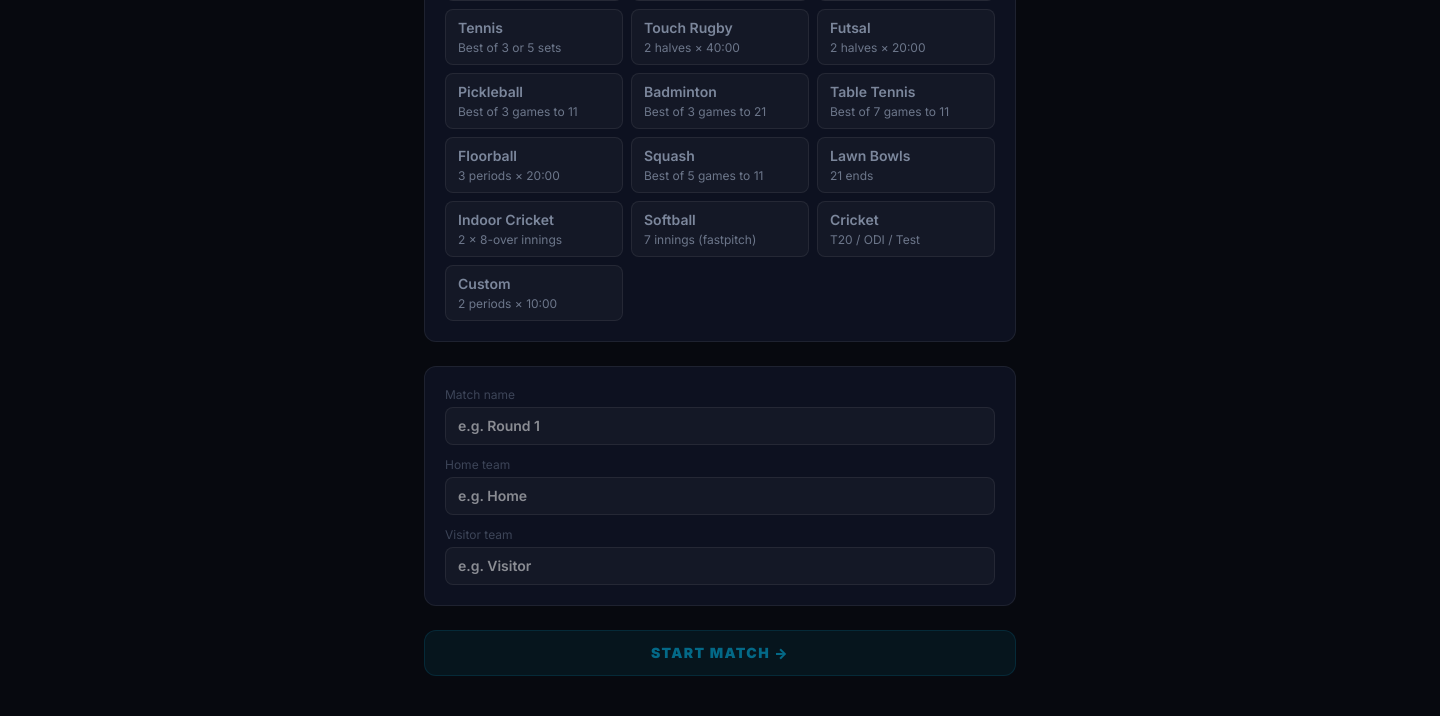
Test: SetupPage › shows an upgrade-required message on a 402 response
(page scrolled)
Type "Round 1" into the field with test id "setup-match-name".
click(720, 426); type("Round 1")  # box [445, 407, 995, 445]
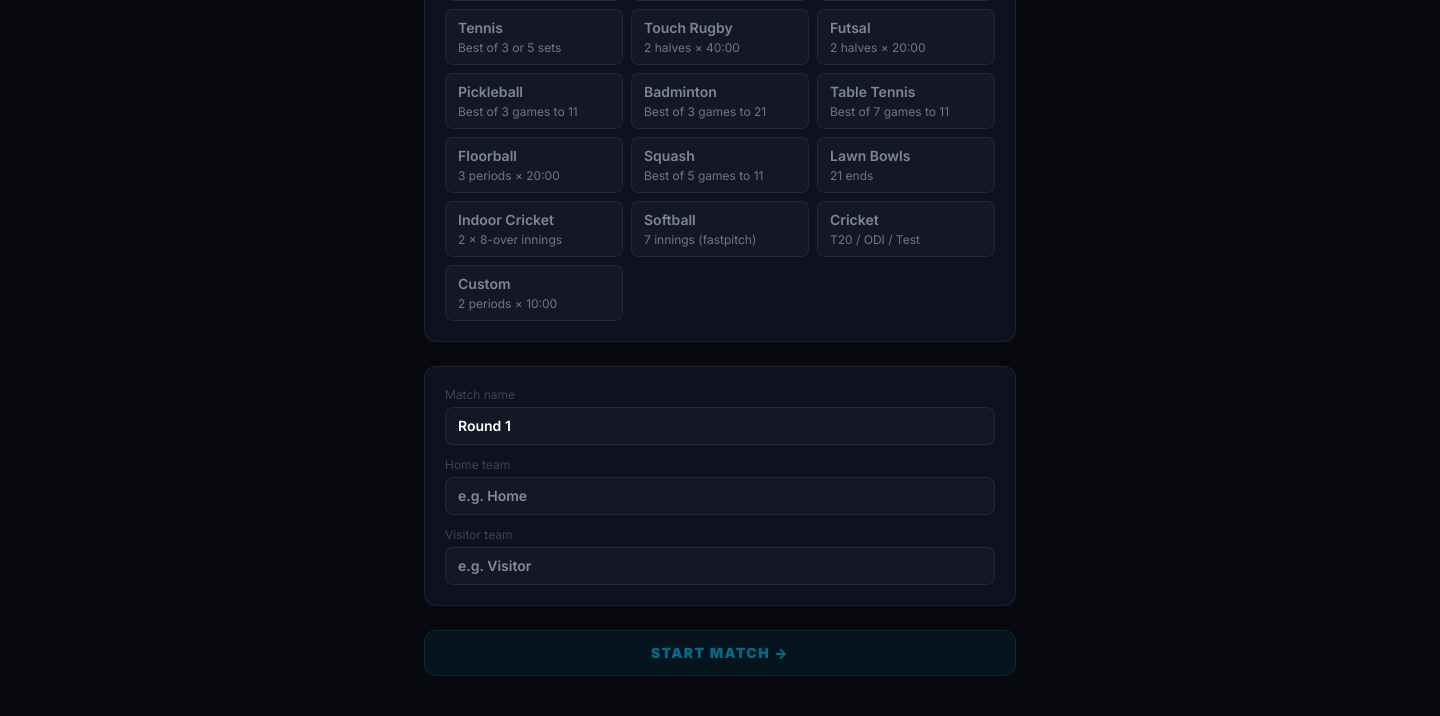
Type "Sharks" into the field with test id "setup-home-name".
click(720, 496); type("Sharks")  # box [445, 477, 995, 515]
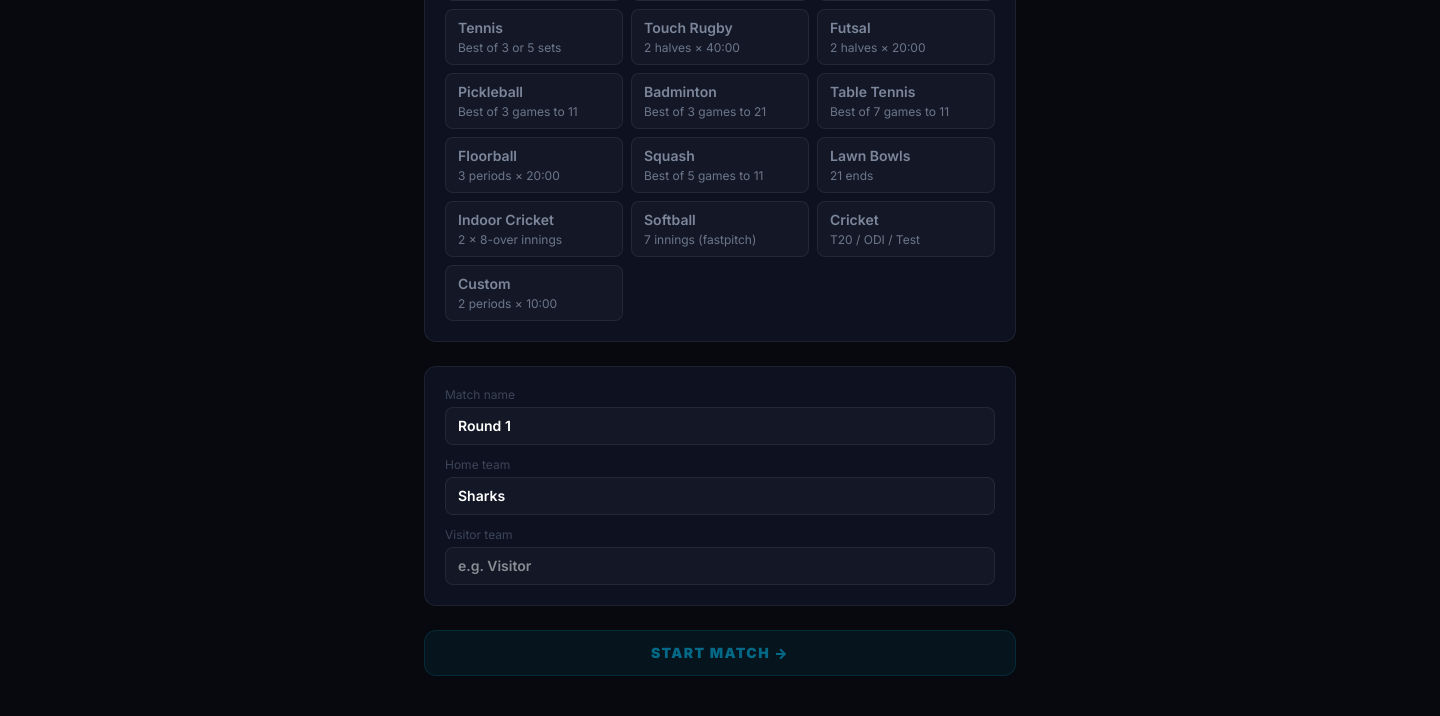
Type "Magic" into the field with test id "setup-visitor-name".
click(720, 566); type("Magic")  # box [445, 547, 995, 585]
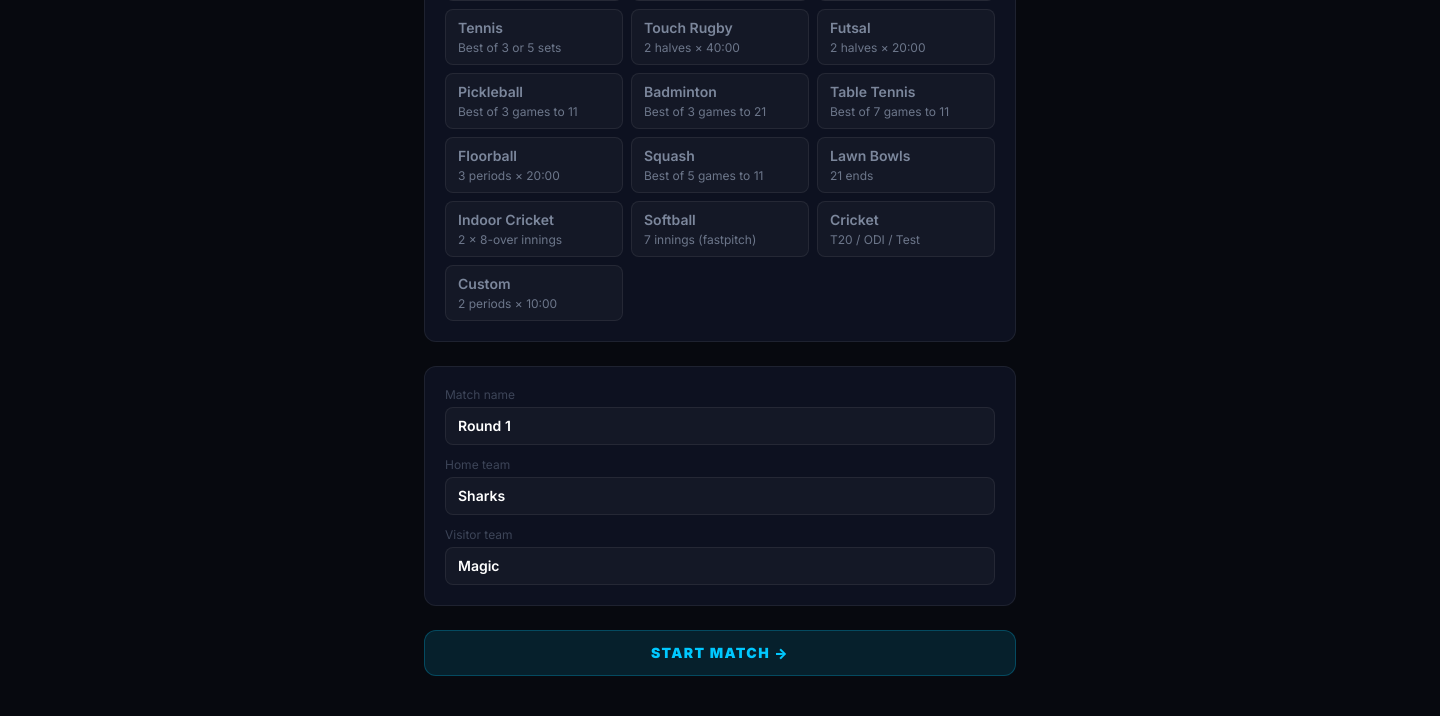
Click the button with test id "setup-submit".
click(720, 653)  # box [424, 630, 1016, 676]
(page scrolled)
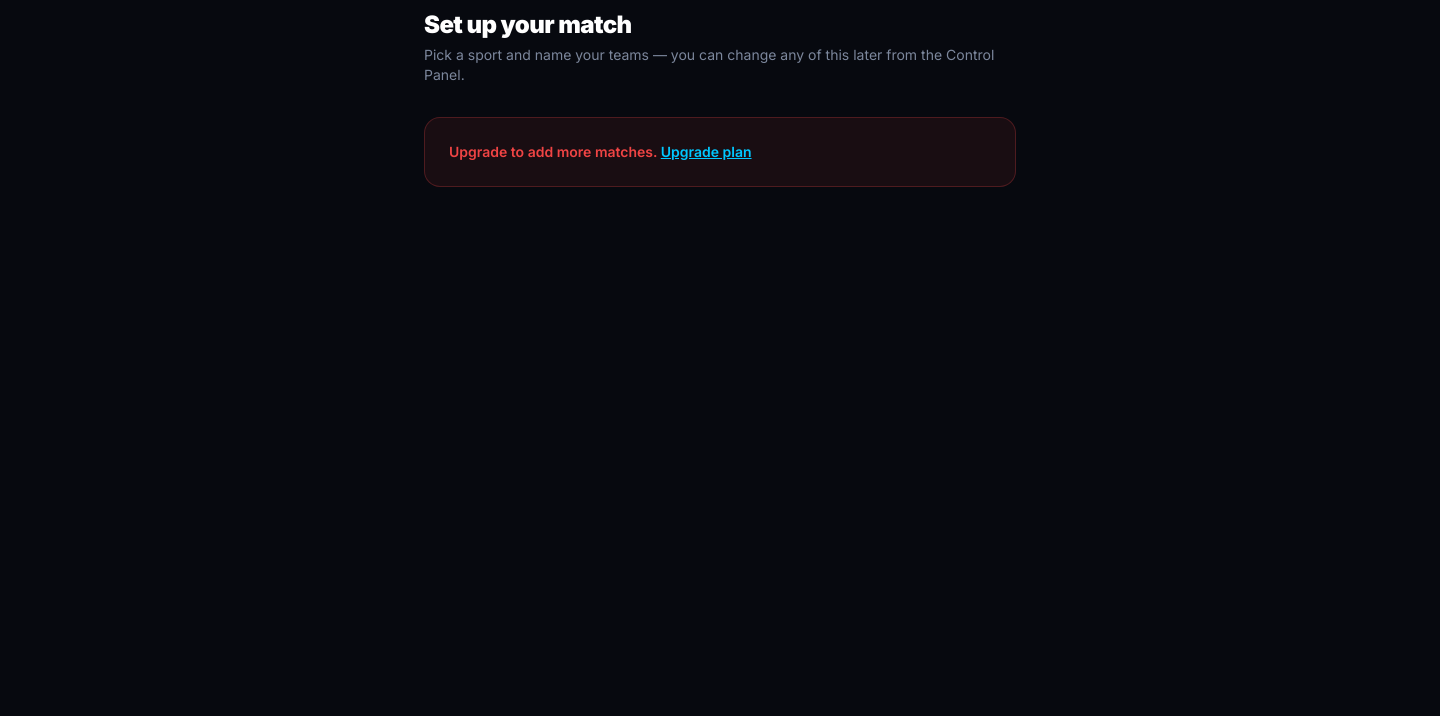
Expected: the text "Upgrade to add more matches." is shown, [449, 143, 657, 160]
